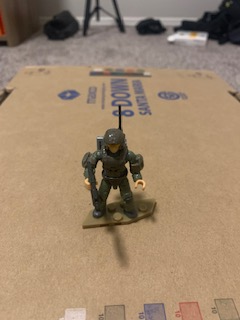armor: (100, 152, 129, 183)
helmet: (101, 127, 127, 158)
trooop: (81, 126, 147, 220)
